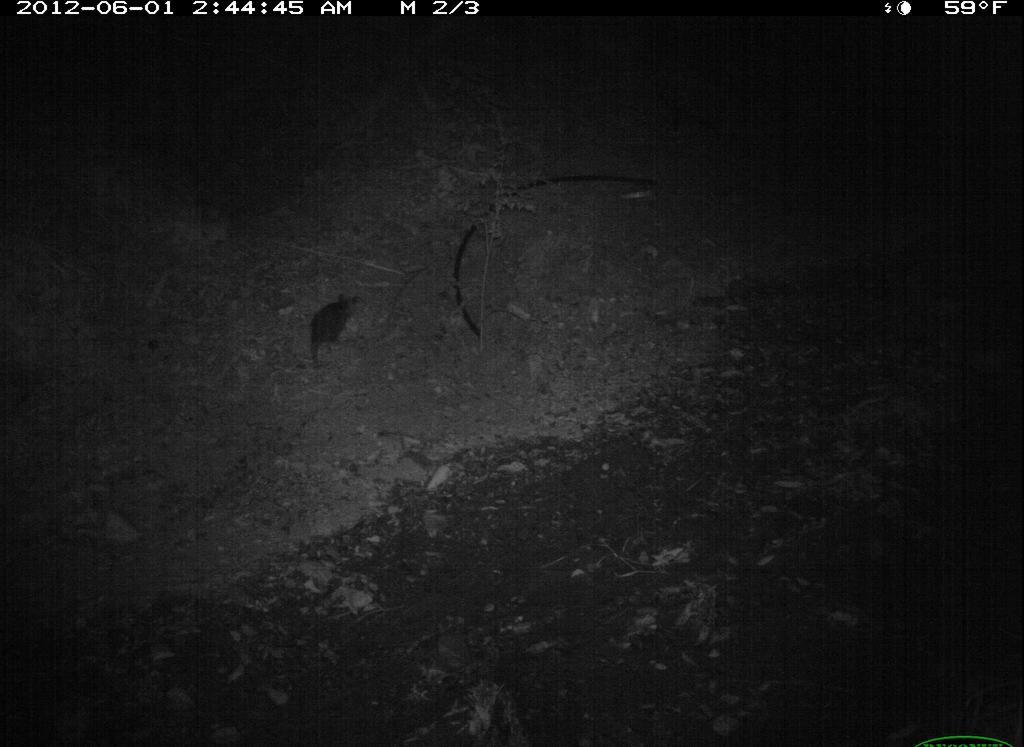opossum: (301, 287, 373, 379)
